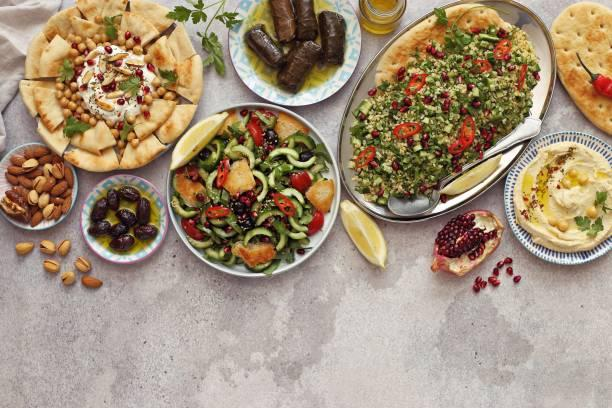Braised Crucian Carp: (338, 1, 551, 225), (22, 0, 202, 173), (164, 103, 334, 276)
